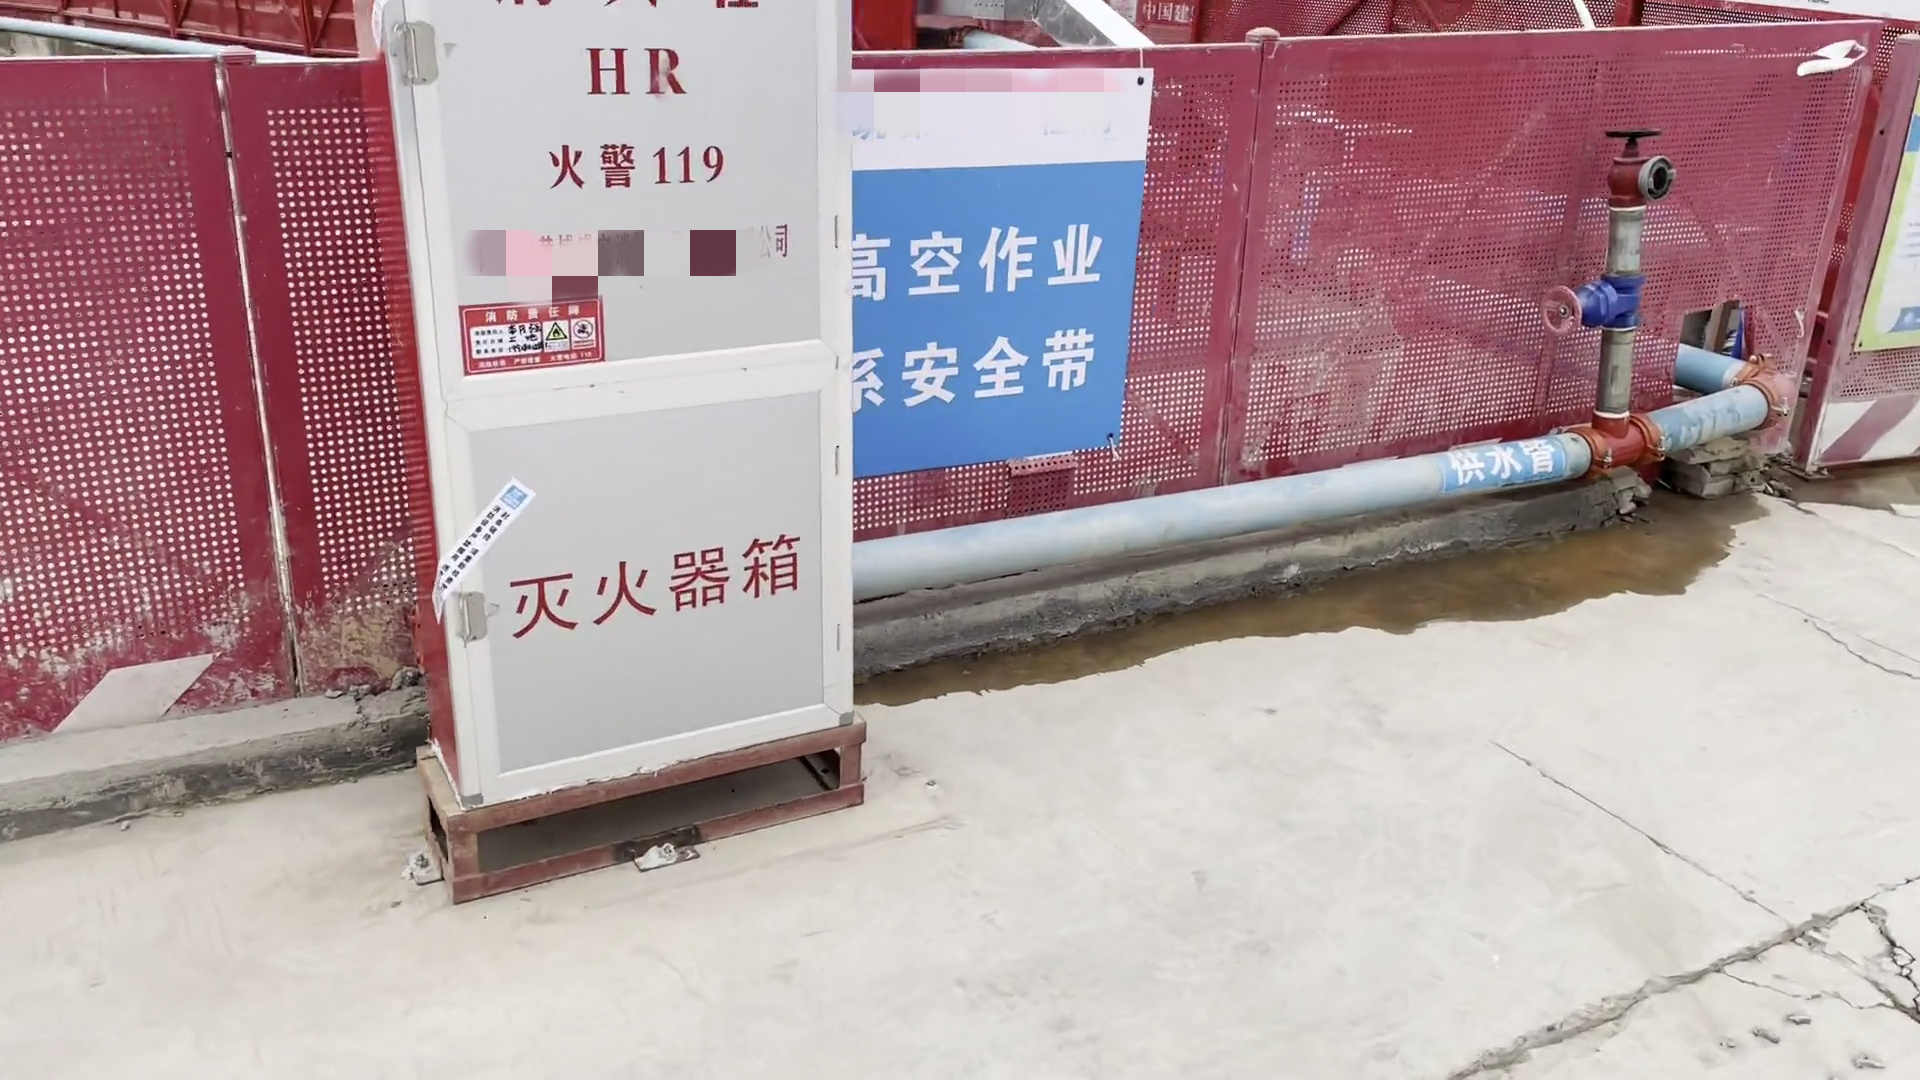fence: (1133, 21, 1880, 488), (1, 61, 382, 724)
slogan: (855, 113, 1102, 446)
